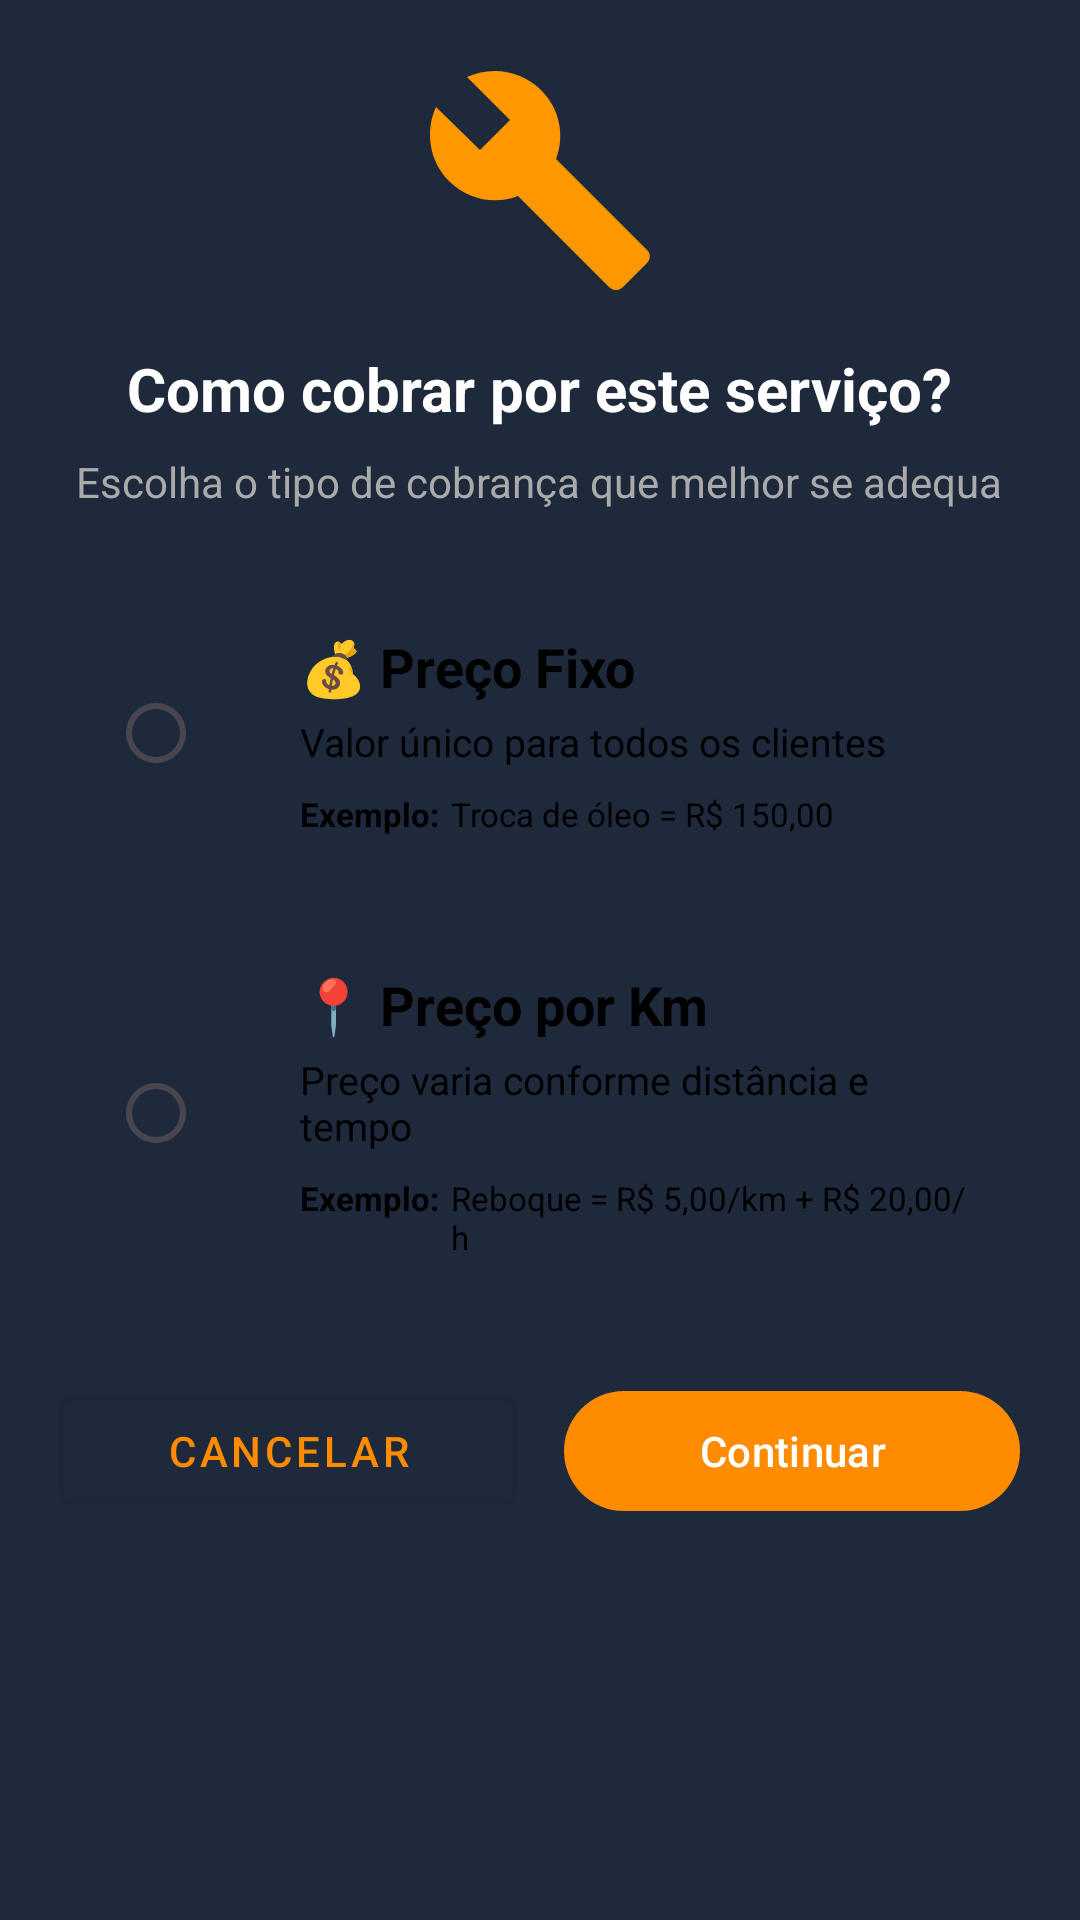

Named icons in this screenshot (1080x1920) and their bounding boxes, region(x1, y1, x2, y2):
servico: region(430, 71, 650, 290)
